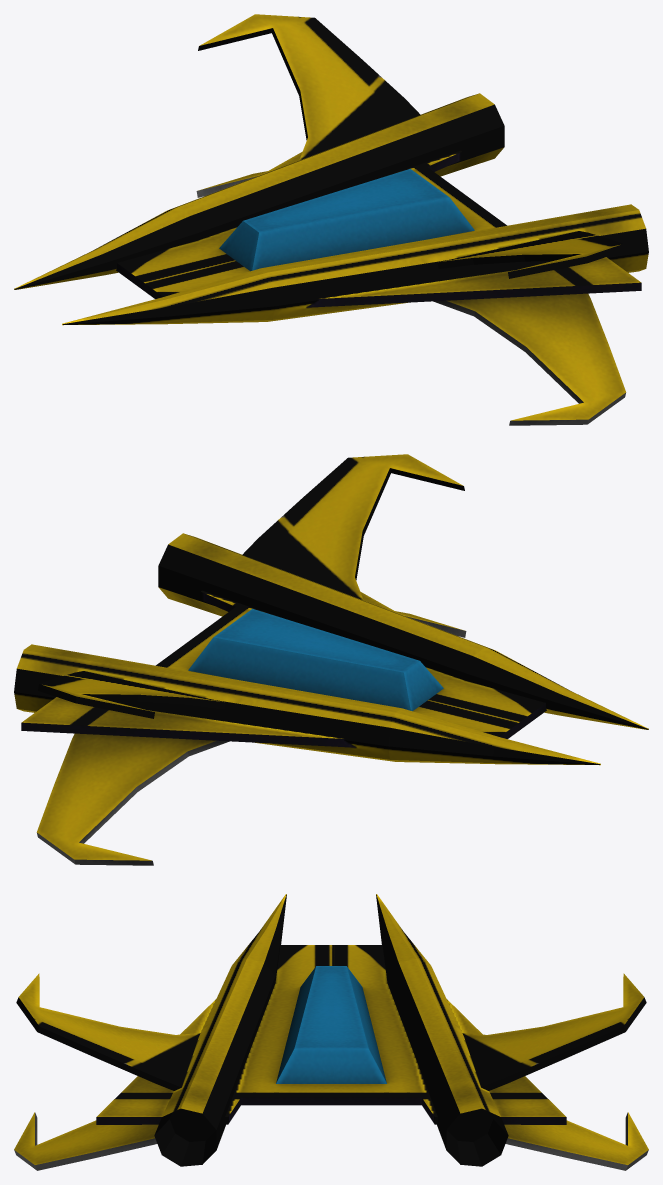
Rendered from fury.obj.
The picture shows the model from 3 angles, top to bottom: view 1: azimuth 30°, elevation 25°; view 2: azimuth 150°, elevation 25°; view 3: azimuth 270°, elevation 25°; orthographic projection. The views are drawn at different scales.
Visible parts, largest first — view 1: Box009; view 2: Box009; view 3: Box009.
Part boxes in pixels (x1=…): Box009: x1=14, y1=14, x2=648, y2=425; Box009: x1=14, y1=454, x2=648, y2=865; Box009: x1=14, y1=894, x2=648, y2=1170.
Bounding box in the file's own units: 9.04 × 2.74 × 9.97.
1 material, 1 textured.
